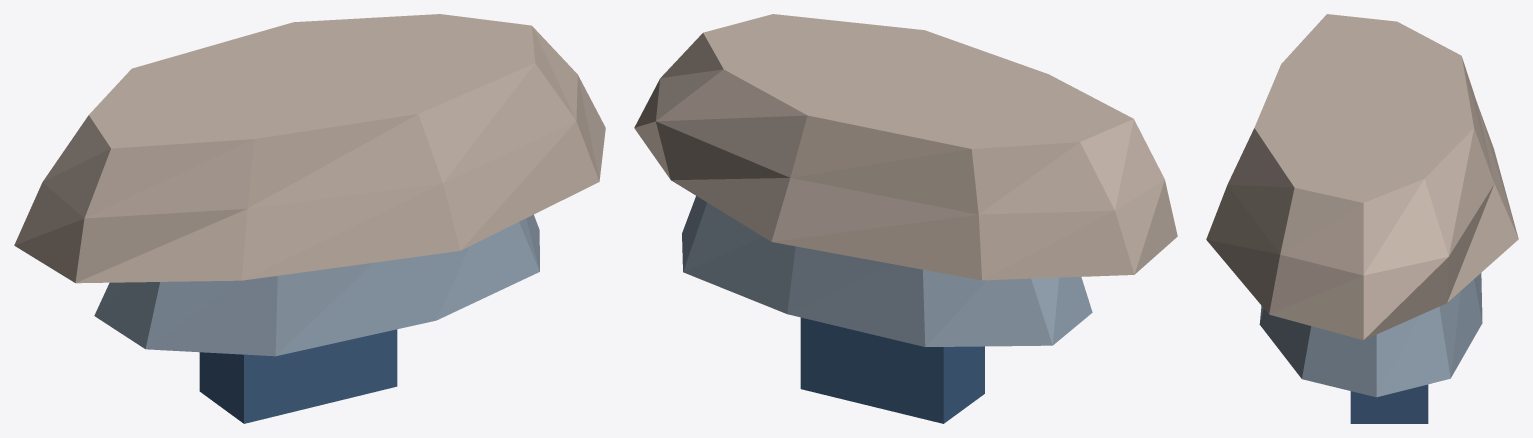
The model's file is overhanging_ledge.glb.
The picture shows the model from 3 angles, left to right: view 1: azimuth 30°, elevation 25°; view 2: azimuth 150°, elevation 25°; view 3: azimuth 270°, elevation 25°; orthographic projection. The views are drawn at different scales.
Visible parts, largest first — view 1: DL015_OverhangingLedge_stone_warm, DL015_OverhangingLedge_stone_blue, DL015_OverhangingLedge_shadow_blue; view 2: DL015_OverhangingLedge_stone_warm, DL015_OverhangingLedge_stone_blue, DL015_OverhangingLedge_shadow_blue; view 3: DL015_OverhangingLedge_stone_warm, DL015_OverhangingLedge_stone_blue, DL015_OverhangingLedge_shadow_blue.
Part boxes in pixels (box(x1,y1,x2,y2)): DL015_OverhangingLedge_stone_warm: box(14, 14, 605, 283); DL015_OverhangingLedge_stone_blue: box(94, 214, 539, 356); DL015_OverhangingLedge_shadow_blue: box(199, 329, 397, 423); DL015_OverhangingLedge_stone_warm: box(634, 14, 1177, 280); DL015_OverhangingLedge_stone_blue: box(682, 196, 1092, 347); DL015_OverhangingLedge_shadow_blue: box(800, 317, 984, 423); DL015_OverhangingLedge_stone_warm: box(1206, 14, 1518, 340); DL015_OverhangingLedge_stone_blue: box(1259, 273, 1482, 397); DL015_OverhangingLedge_shadow_blue: box(1350, 384, 1428, 423).
Size of the model in its own units: 8.83 by 4.8 by 4.83.
